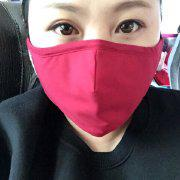OK: (31, 5, 157, 131)
